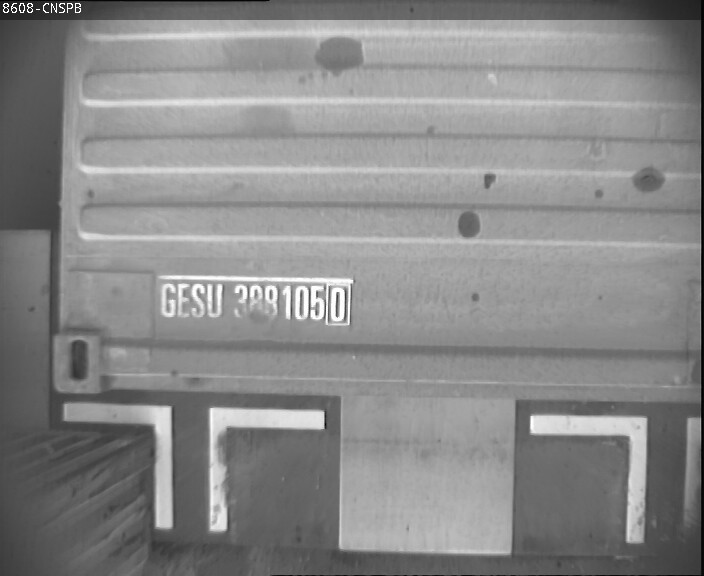groundmarker_1: (62, 400, 325, 532), (531, 411, 704, 545)
